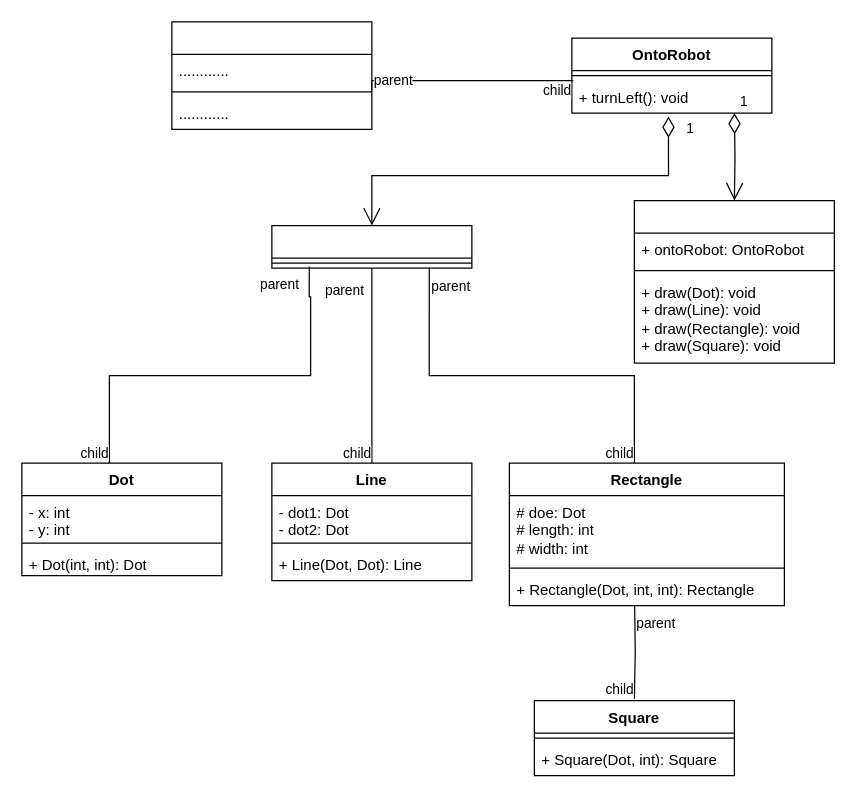
Some shapes in this 856 by 801 pixel diagram are drawn without their labels. The shapes that lost their labels are listed below. From the top down, each one's box as (x1, y1, x2, y2) in pixels, then its label:
(171, 21, 372, 129): UrRobot
(271, 224, 472, 268): Figure
(633, 199, 834, 363): Drawer
